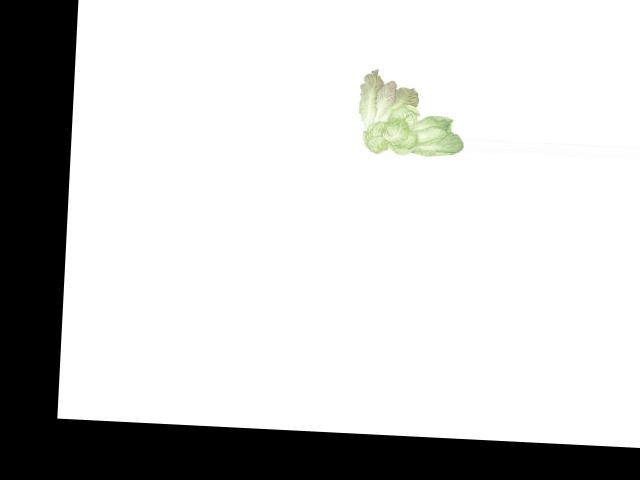lettuce: (354, 63, 468, 164)
